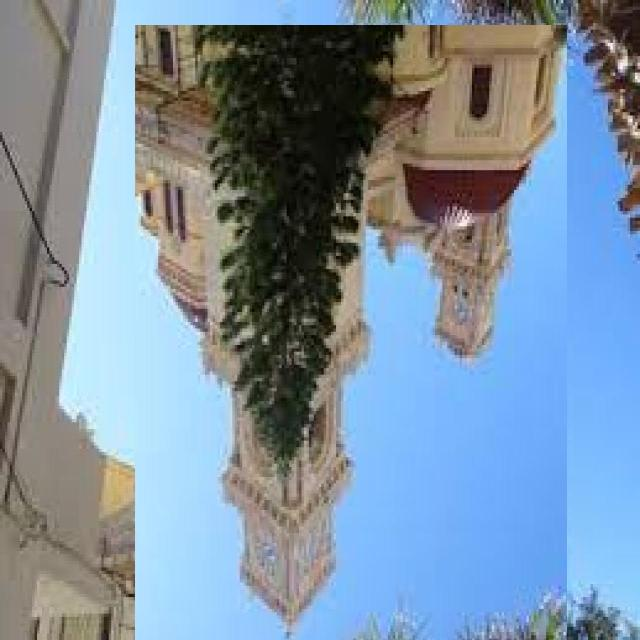Agios Minas: (136, 26, 568, 640)
